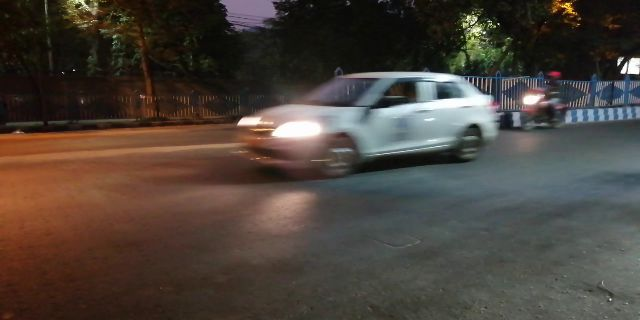Car: (232, 70, 503, 181)
